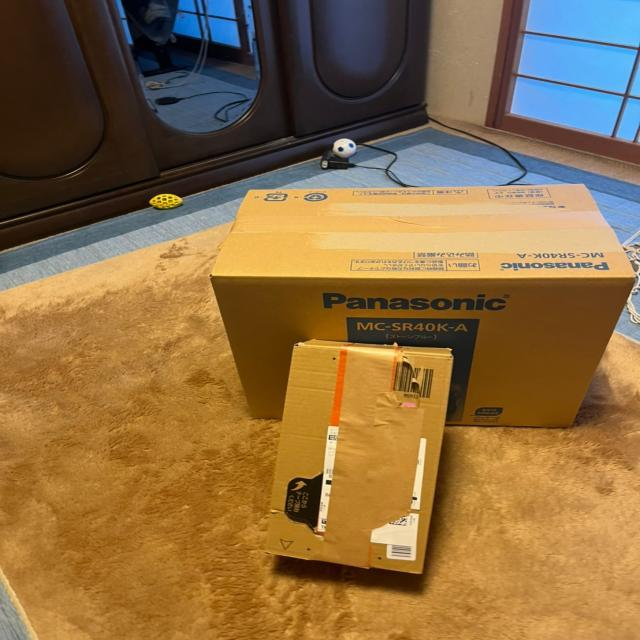-: (203, 180, 640, 433), (252, 335, 460, 586)
